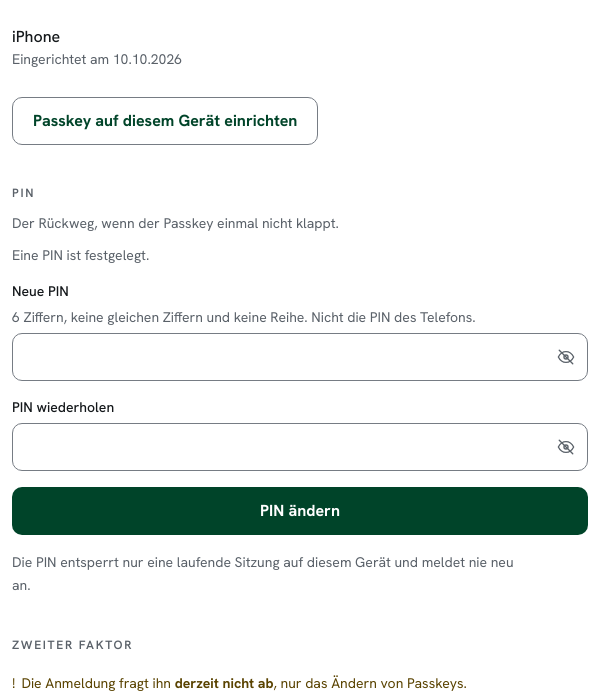
it: MeinKontoPage › weist eine triviale PIN am Feld ab, ohne den Server zu fragen
The width and height of the screenshot is (609, 700).
(page scrolled)
expect the text "Eine PIN ist festgelegt." is shown: met, box top-left (12, 246), bottom-right (149, 264)
Step 1. Type "123456" into the password field labelled "Neue PIN" → (300, 357), box top-left (12, 333), bottom-right (588, 381)
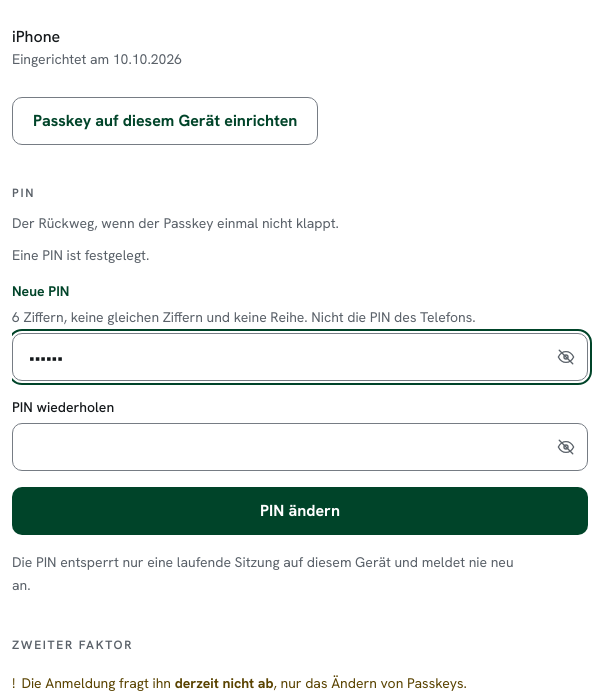
Step 2. Type "123456" into the password field labelled "PIN wiederholen" → (300, 447), box top-left (12, 423), bottom-right (588, 471)
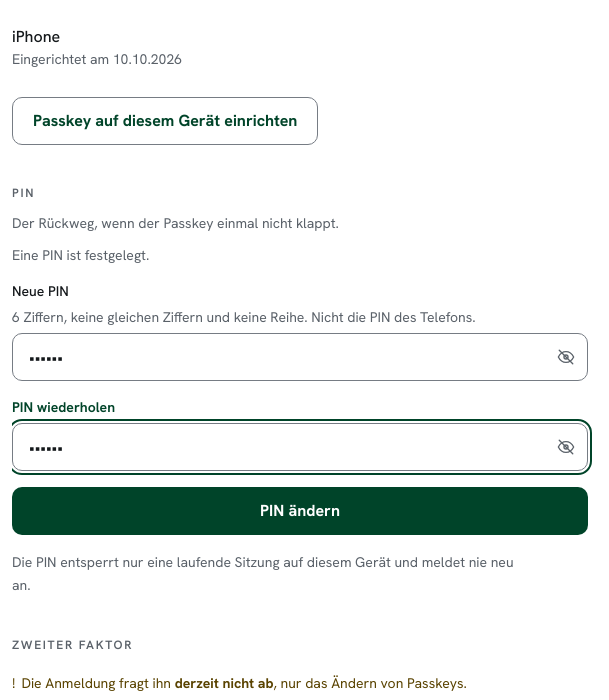
Step 3. Click the button "PIN ändern" → (300, 511), box top-left (12, 487), bottom-right (588, 535)
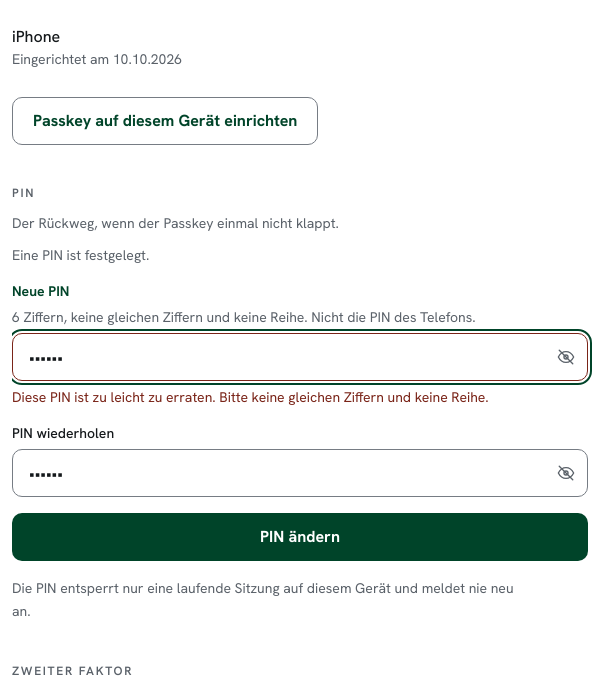
expect the text "zu leicht zu erraten" is shown: met, box top-left (12, 388), bottom-right (489, 406)
